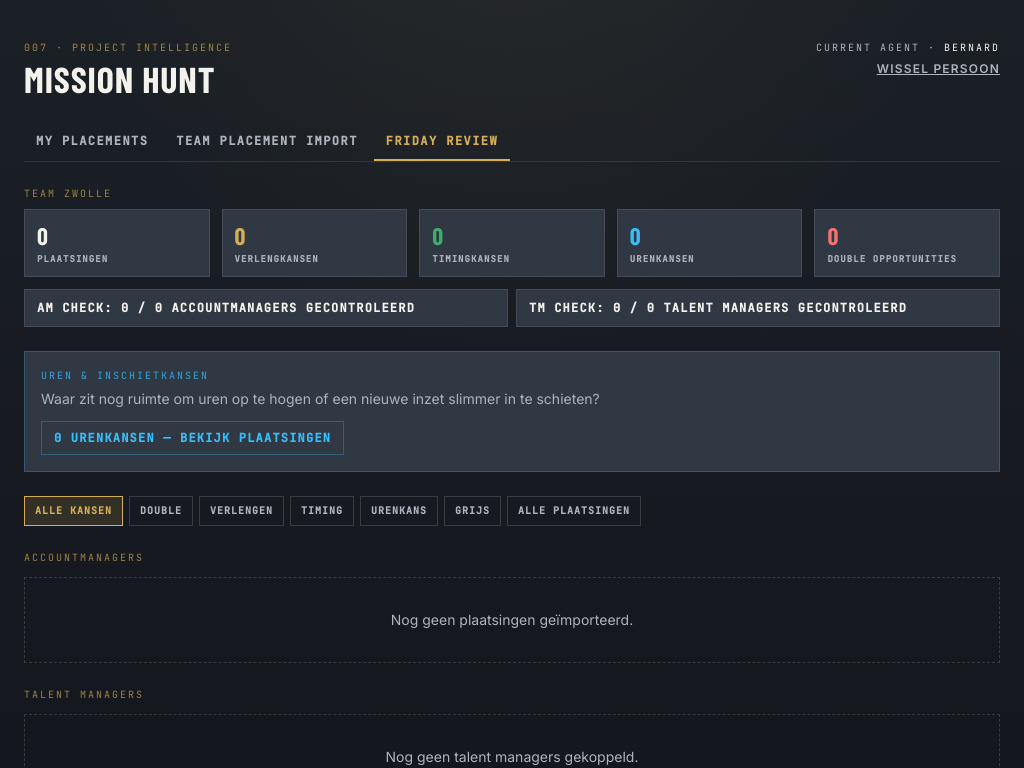
it: MissionHuntPage — signed-in flow, admin/manager/office_manager/hr all default to Friday Review › p1 (Bernard) lands on Friday Review by default and can still reach My Placements / Team Placement Import
Expected: the text "Team Zwolle" is shown, [24, 187, 112, 200]
Click the button "My Placements" at point(92, 142), box [24, 123, 160, 161]
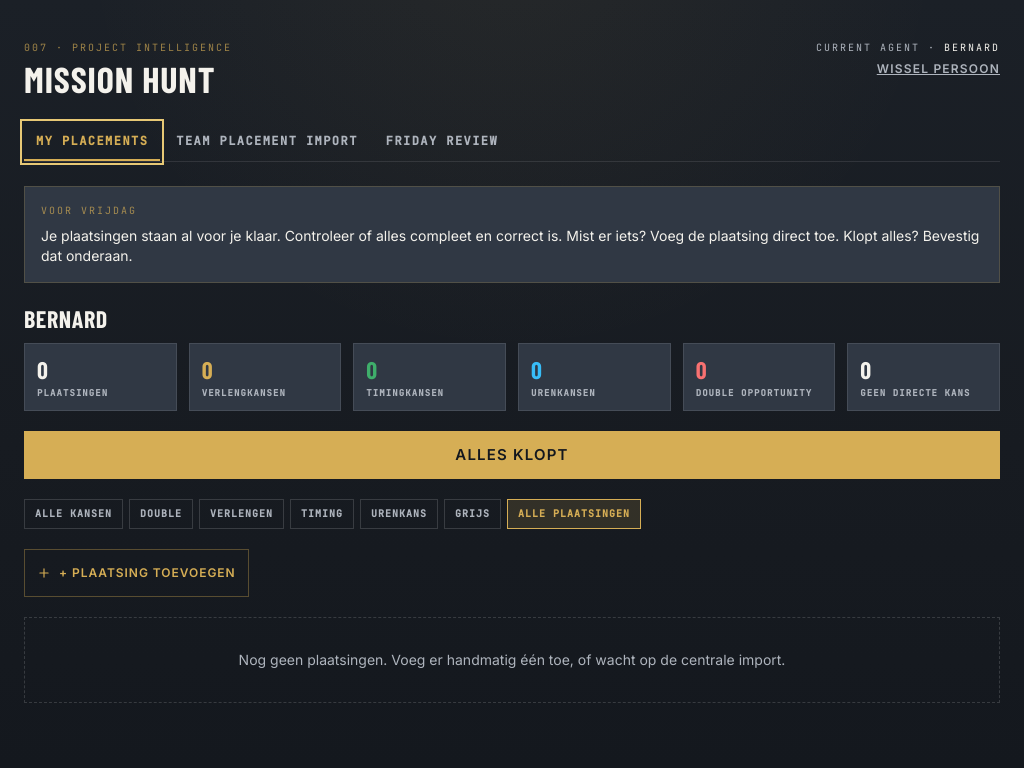
Result: the text "Voor vrijdag" is shown at [41, 204, 137, 217]
